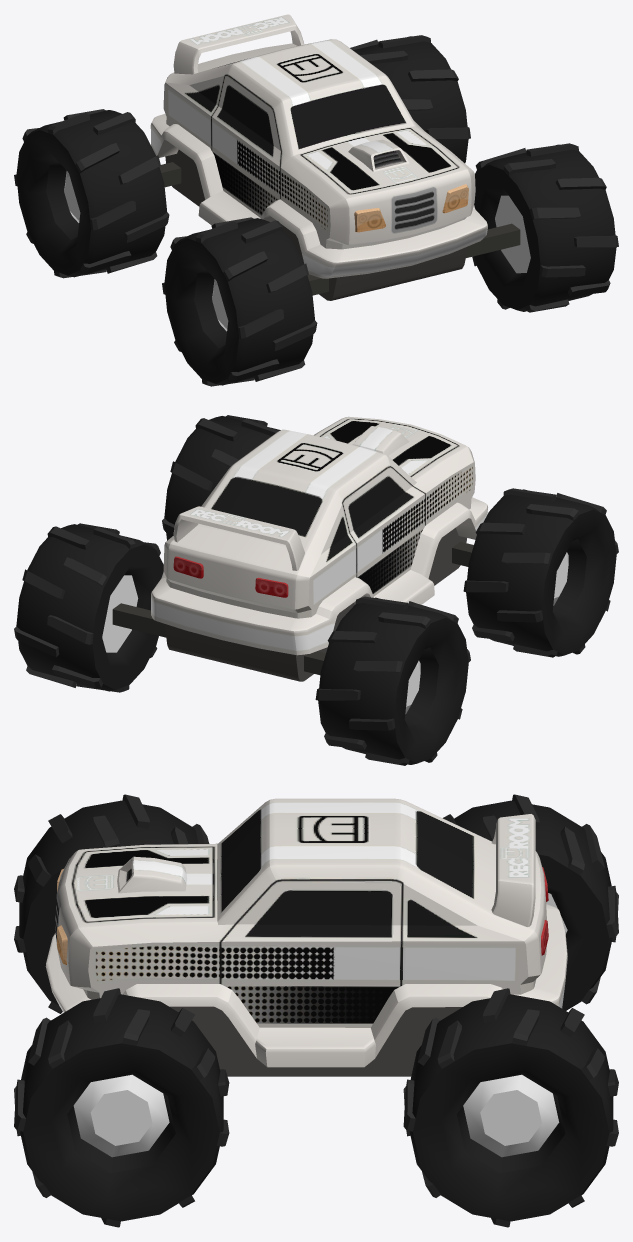
File: rc car.glb
The picture shows the model from 3 angles, top to bottom: view 1: azimuth 30°, elevation 25°; view 2: azimuth 150°, elevation 25°; view 3: azimuth 270°, elevation 25°; orthographic projection. The views are drawn at different scales.
Parts seen in each view (by area): view 1: RC_Truck; view 2: RC_Truck; view 3: RC_Truck.
Boxes of the visible parts, left/top/right/bottom form: RC_Truck: left=14, top=14, right=618, bottom=386; RC_Truck: left=14, top=415, right=618, bottom=765; RC_Truck: left=14, top=794, right=618, bottom=1227.
Bounding box in the file's own units: 1.09 × 0.5832 × 1.14.
Materials: 1 (1 with a texture image).
